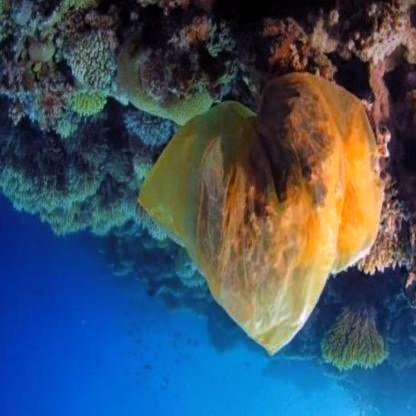plastic: (140, 98, 387, 320)
